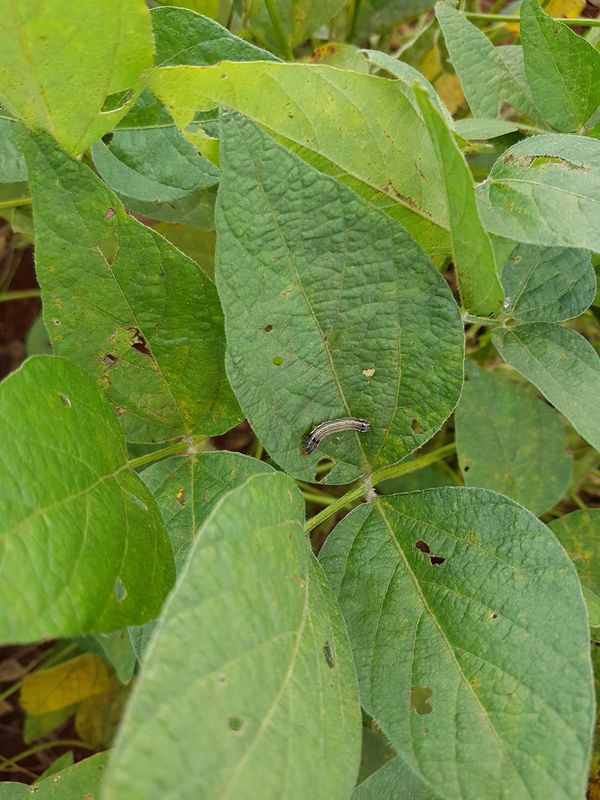Spodoptera_albula: (290, 406, 382, 470)
